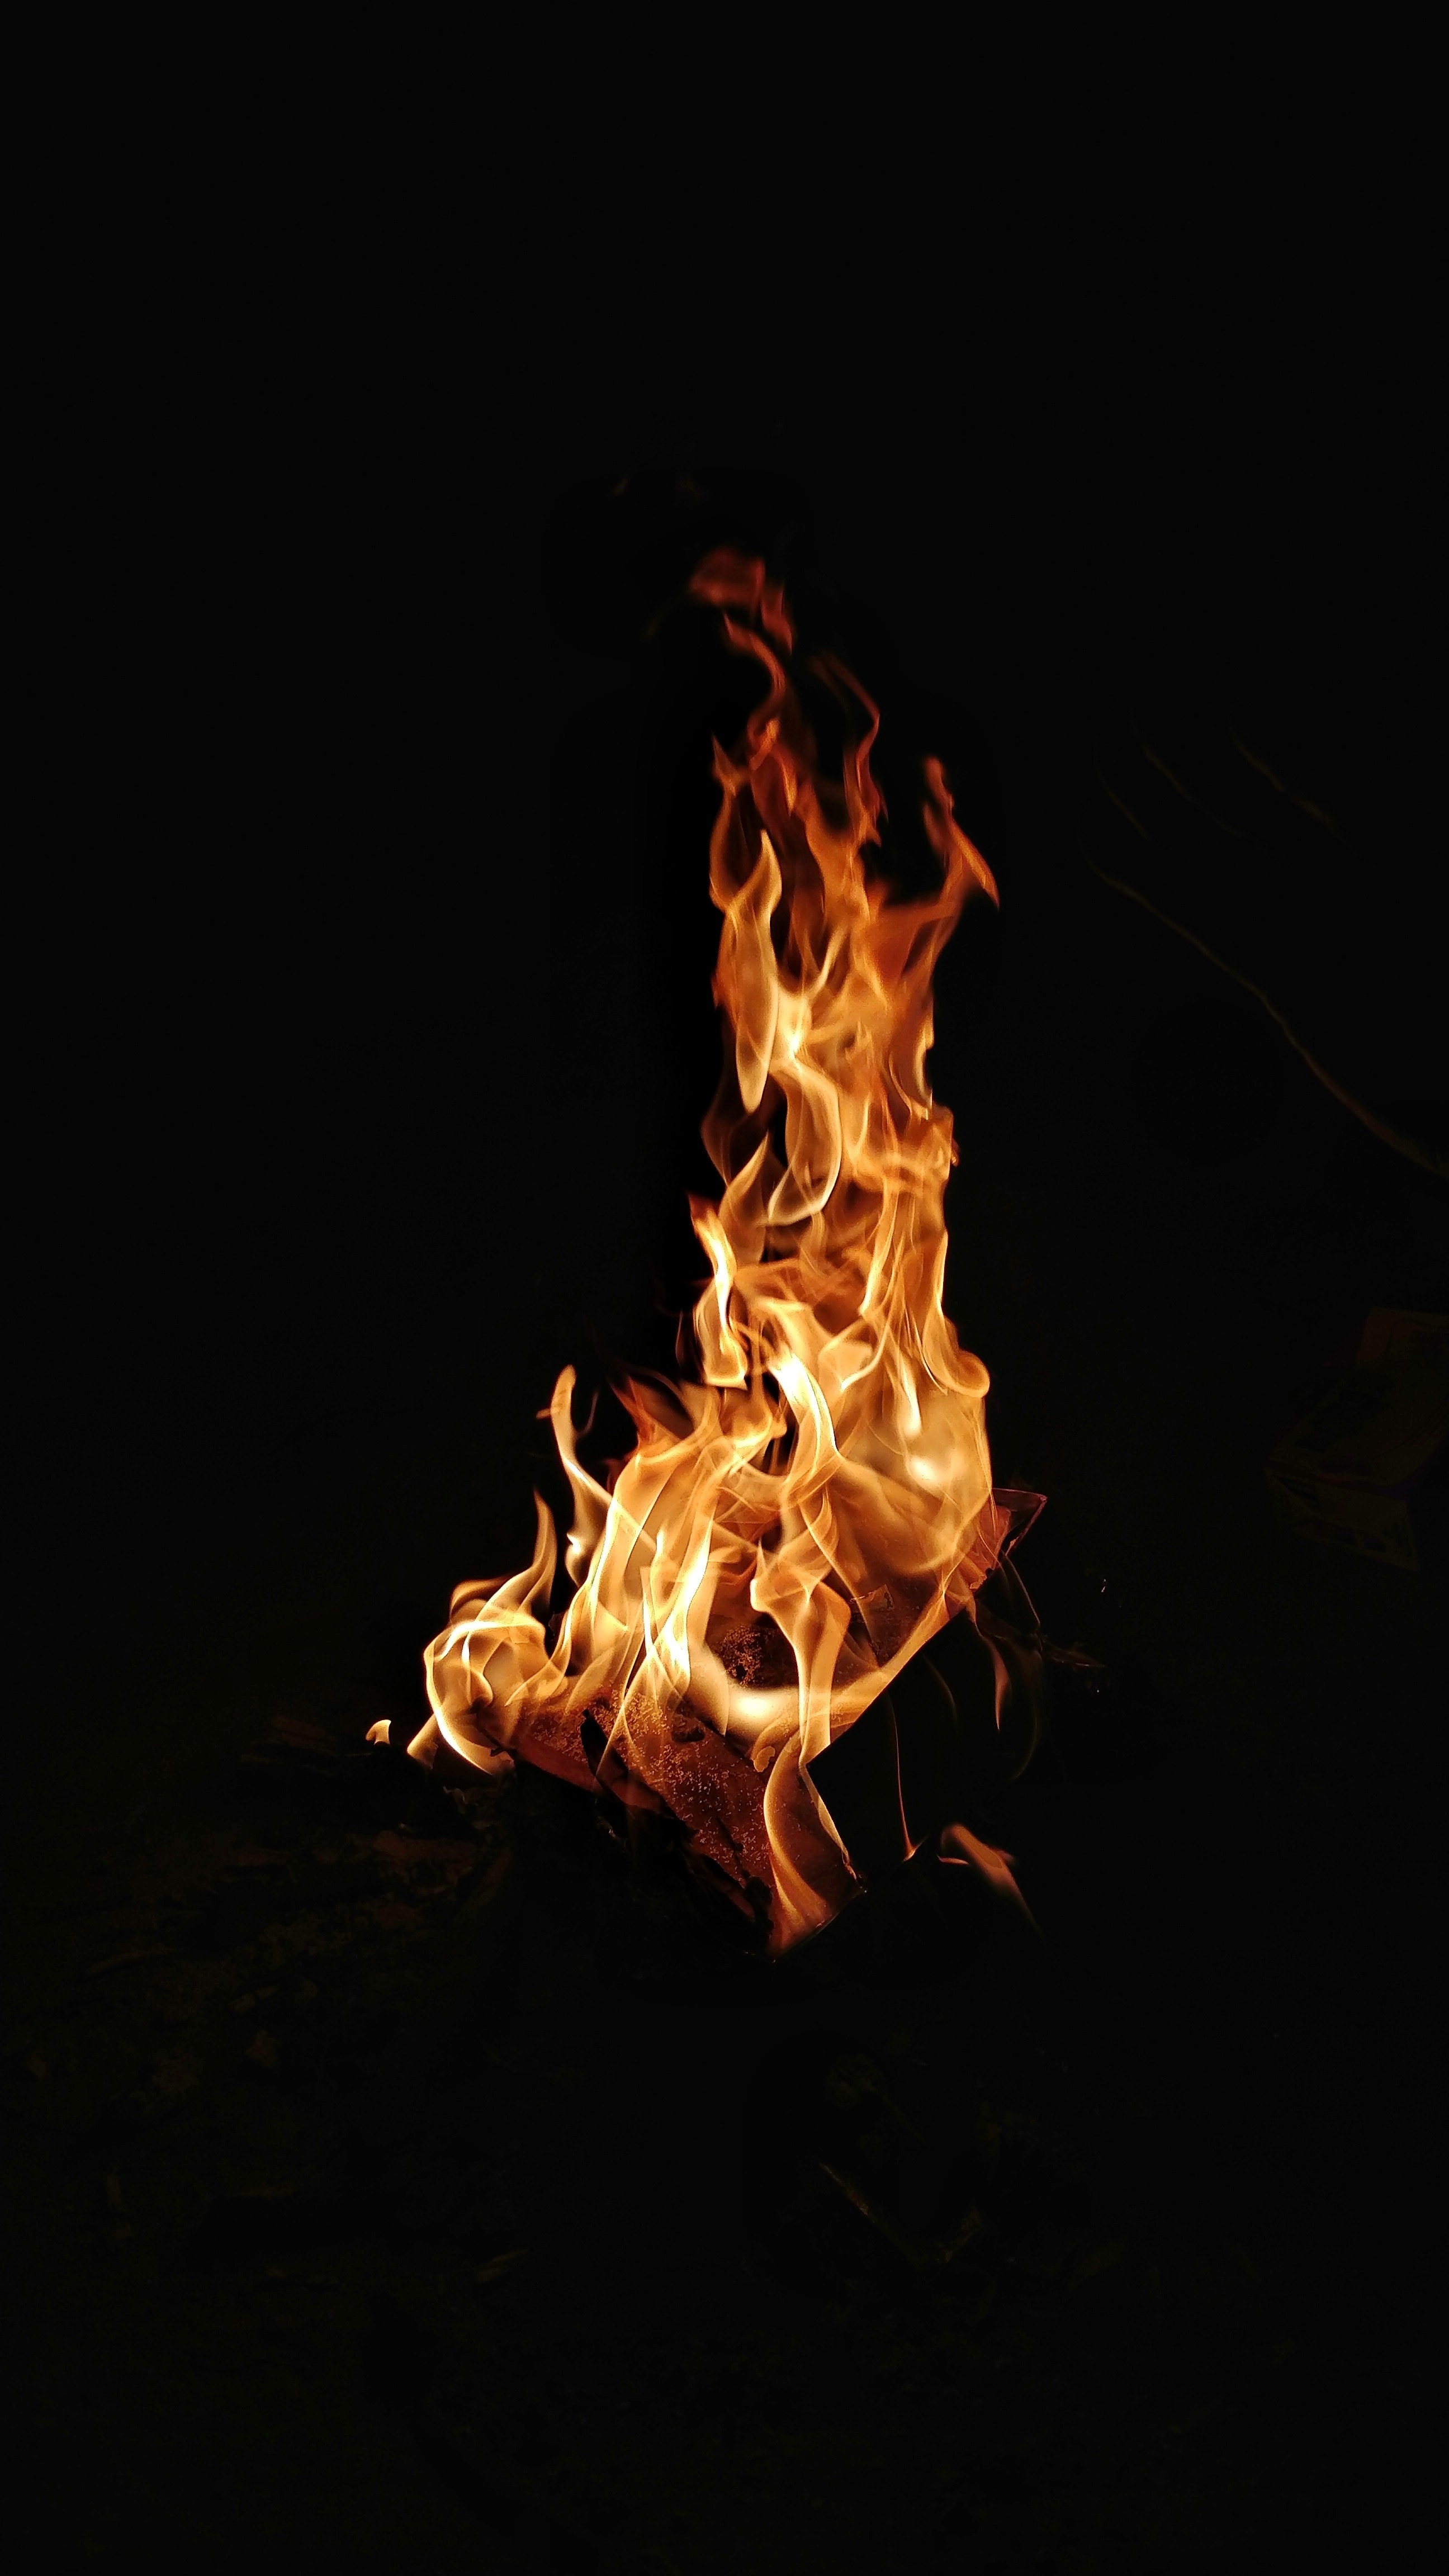fire: (391, 478, 1054, 1898)
